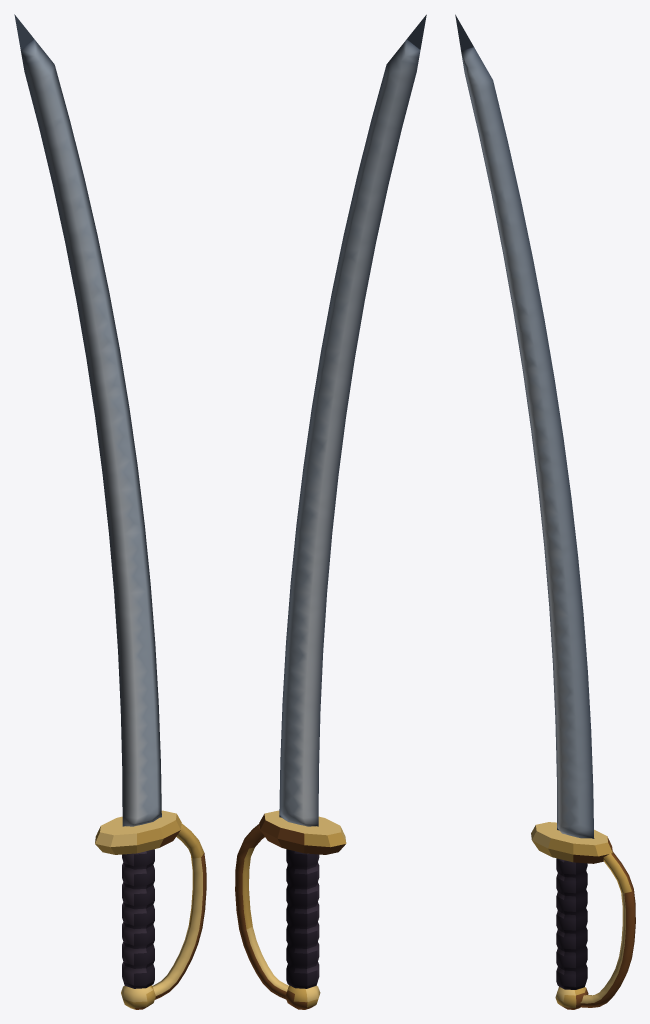
File: w_steel_saber.glb
3 views of the same model, side by side, from view 1: azimuth 30°, elevation 25°; view 2: azimuth 150°, elevation 25°; view 3: azimuth 330°, elevation 25° (orthographic). The views are drawn at different scales.
Parts seen in each view (by area): view 1: Weapon; view 2: Weapon; view 3: Weapon.
Part boxes in pixels (x1,y1,x2,y2): Weapon: (14, 14, 206, 1009); Weapon: (235, 14, 426, 1009); Weapon: (455, 14, 635, 1009).
Size of the model in its own units: 0.1942 by 0.9948 by 0.042.
